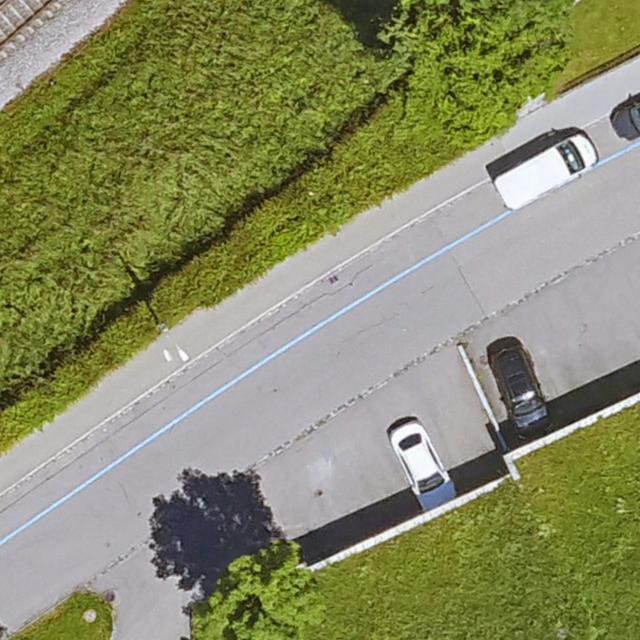tree: (382, 0, 567, 134), (193, 540, 325, 640)
